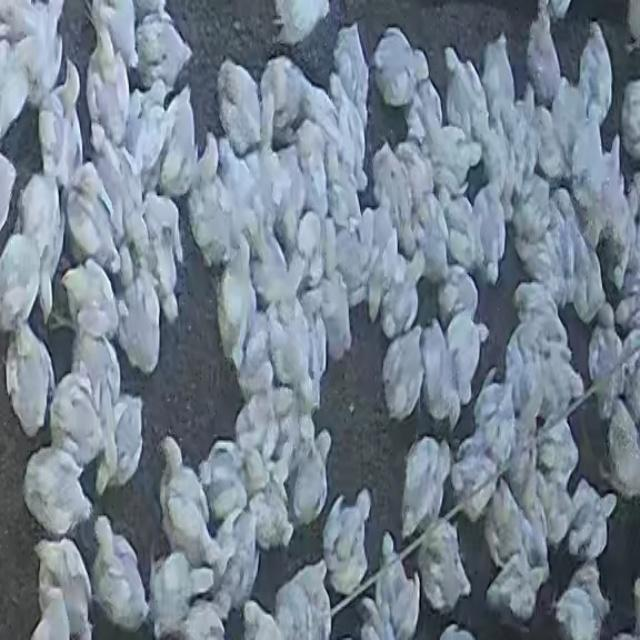chicken: (86, 513, 148, 632), (396, 433, 451, 534), (325, 484, 374, 591), (370, 23, 433, 106), (58, 261, 124, 339), (380, 326, 425, 421)
